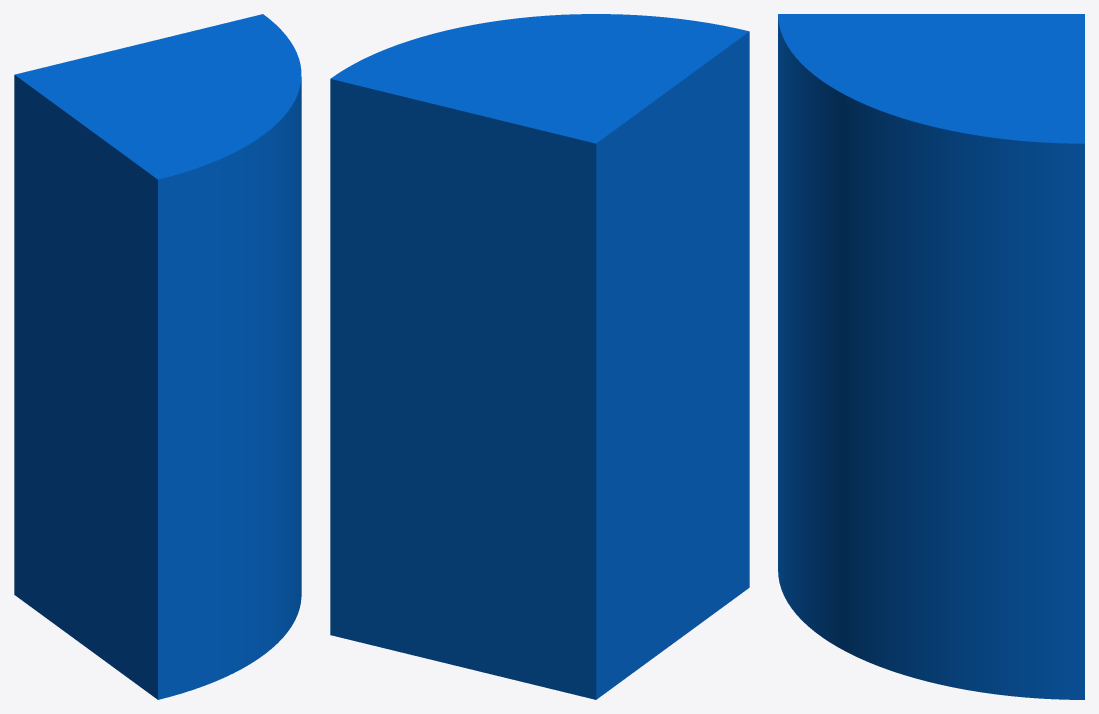
File: SM_QuarterCylinder_e681ec19ef.glb
3 views of the same model, side by side, from view 1: azimuth 30°, elevation 25°; view 2: azimuth 150°, elevation 25°; view 3: azimuth 270°, elevation 25° (orthographic). The views are drawn at different scales.
Parts seen in each view (by area): view 1: SM_Cylinder2; view 2: SM_Cylinder2; view 3: SM_Cylinder2.
Part boxes in pixels (x1,y1,x2,y2): SM_Cylinder2: [14, 14, 301, 699]; SM_Cylinder2: [330, 14, 749, 699]; SM_Cylinder2: [778, 14, 1084, 699].
Bounding box in the file's own units: 0.5 × 1 × 0.5.
